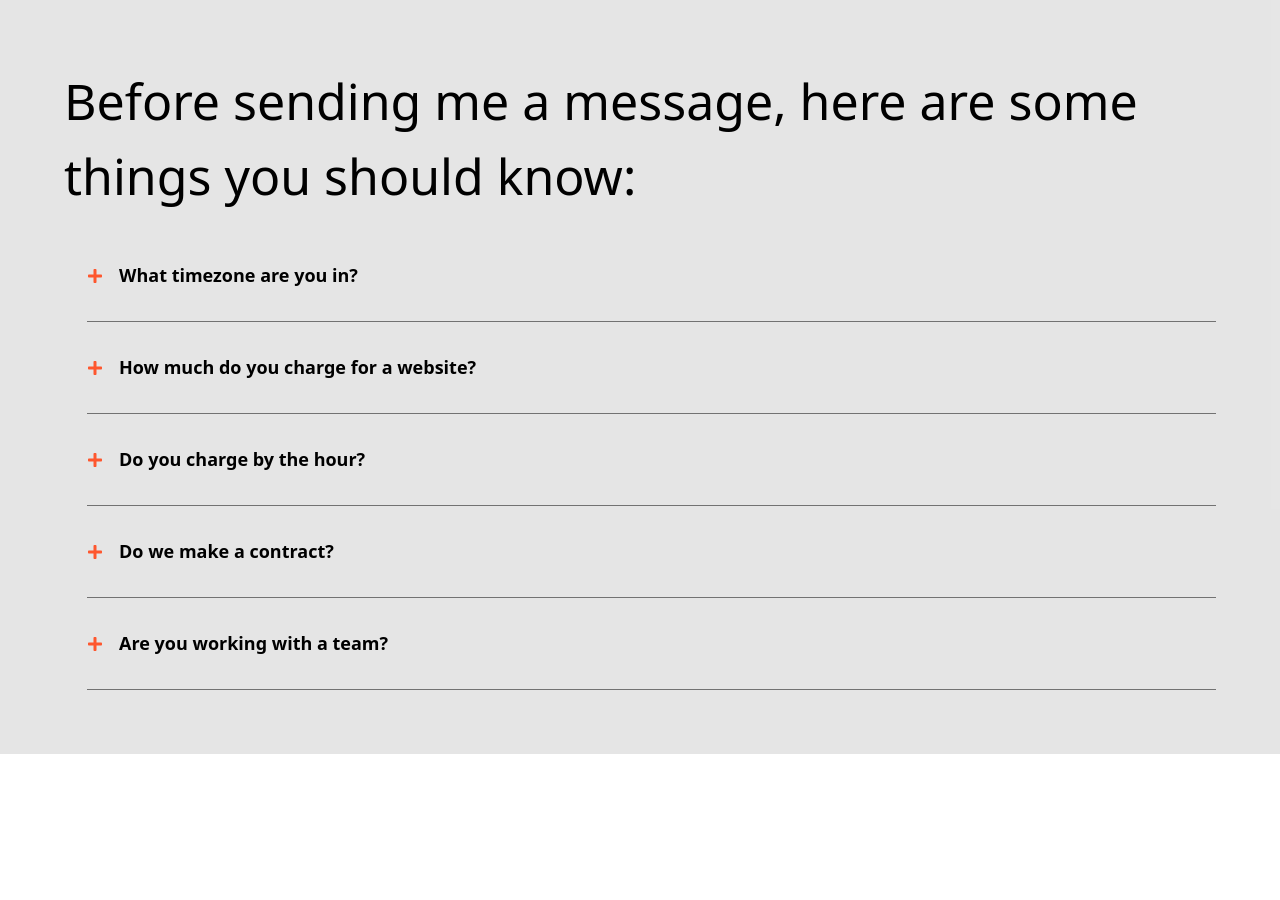
FQA Component › should open one answer at a time on question click
This screenshot has width=1280, height=900.
Expected: the text "I'm based in" is not shown
Click the text "What timezone are you in?": (238, 276) x1=119 y1=262 x2=358 y2=289
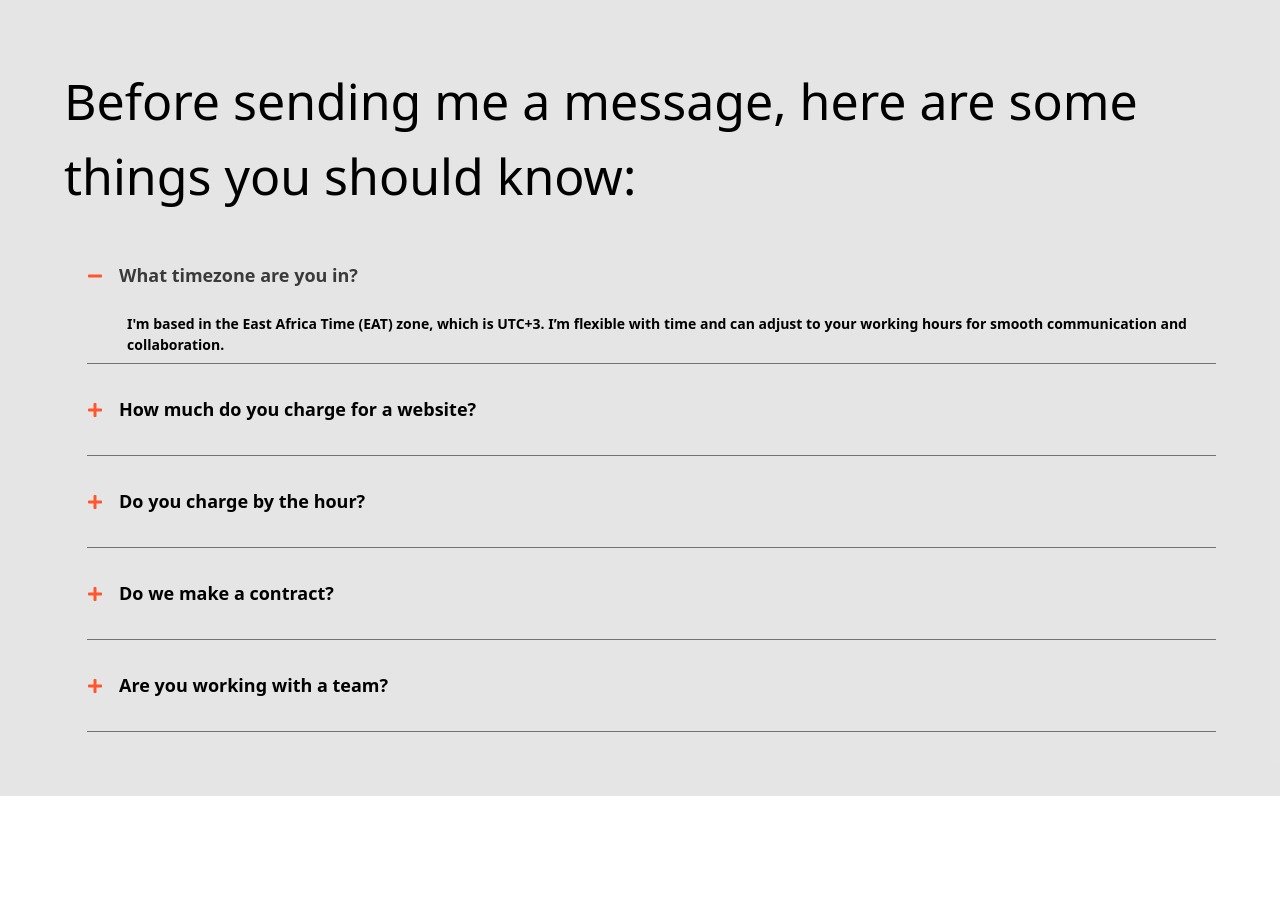
Expected: the text "My pricing varies" is not shown
Result: the text "I'm based in" is shown at x1=127 y1=314 x2=1187 y2=354
// click on second question
Click the text "How much do you charge for a website?": (298, 410) x1=119 y1=396 x2=476 y2=423
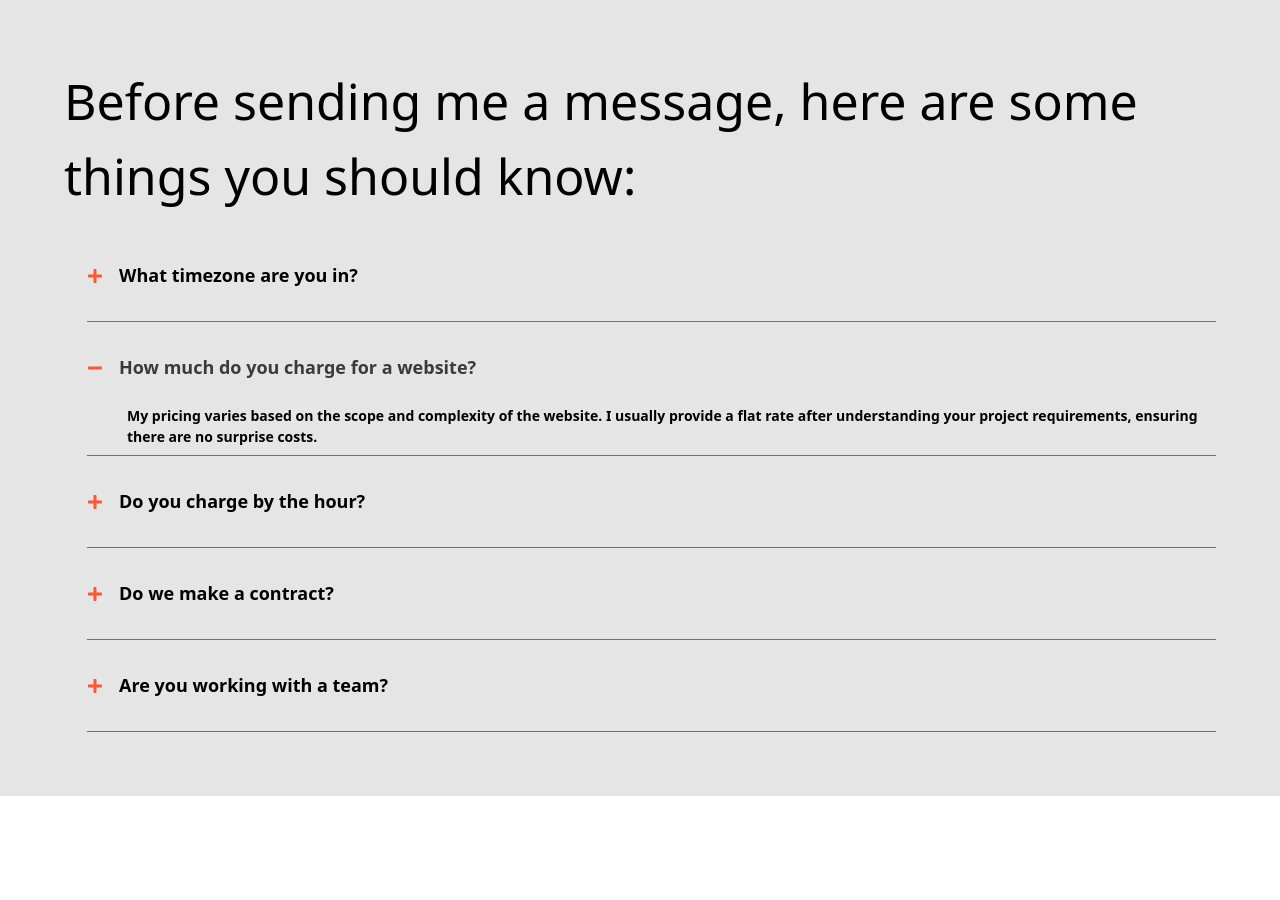
Result: the text "I'm based in" is gone
Result: the text "My pricing varies" is shown at x1=127 y1=406 x2=1198 y2=446
